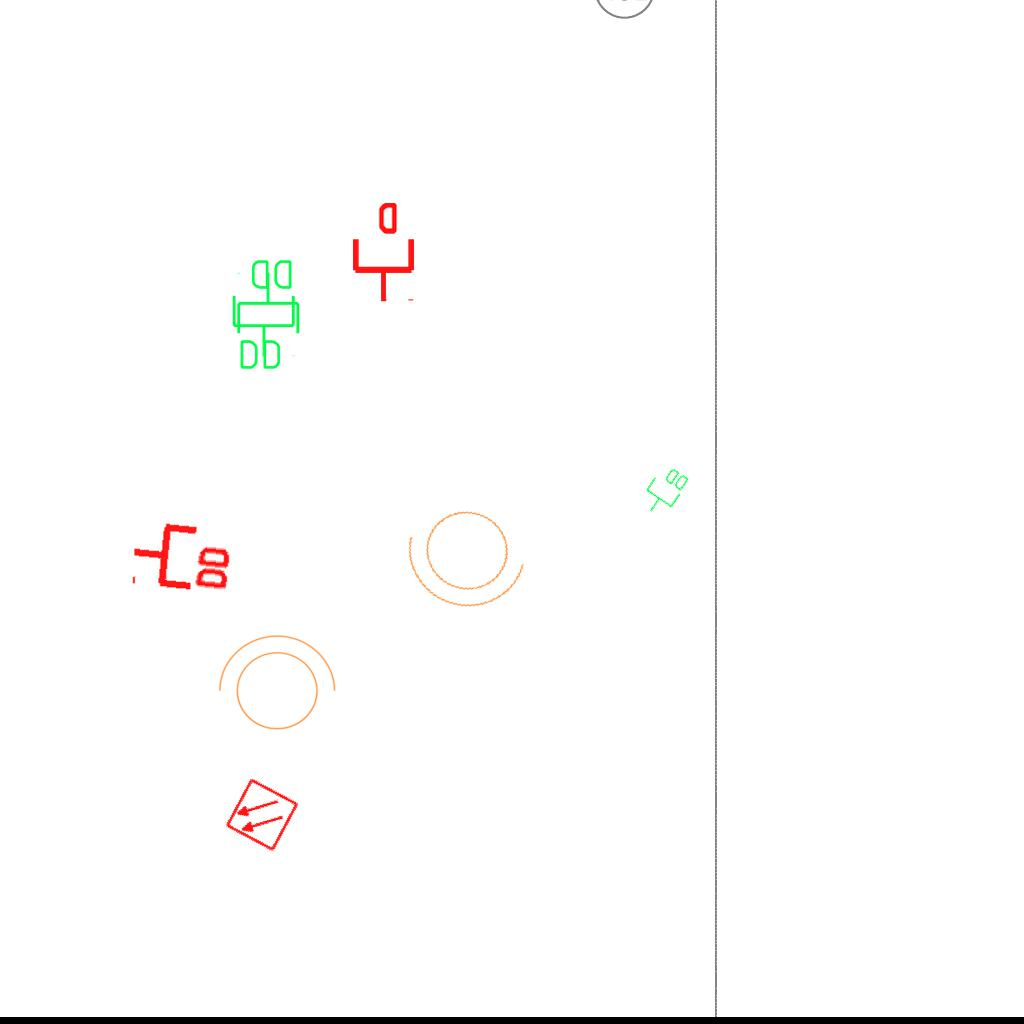Datenanschluss_einfach: (349, 203, 418, 303)
Datenanschluss_zweifach: (127, 515, 238, 596), (230, 256, 299, 359), (233, 270, 302, 373), (636, 460, 693, 522)
RMO_Rauchmelder_optischer: (224, 777, 300, 853)
Scheinwerfer_fuer_Alarmbeleuchtung: (391, 485, 547, 627), (208, 630, 340, 742)
